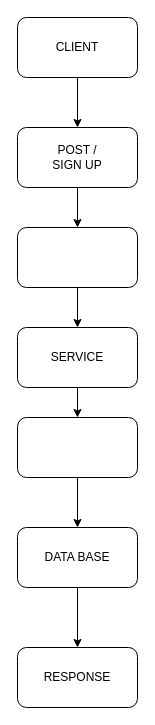
Some shapes in this 155 by 725 pixel diagram are drawn without their labels. The shapes that lost their labels are listed below. From the top down, each one's centre as x and y in pixels, then its label:
(77,257): CONTROLLER
(77,447): REPOSITORY
